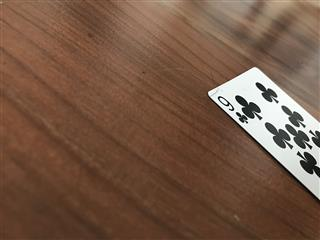NineOfClubs: (206, 65, 320, 199)
